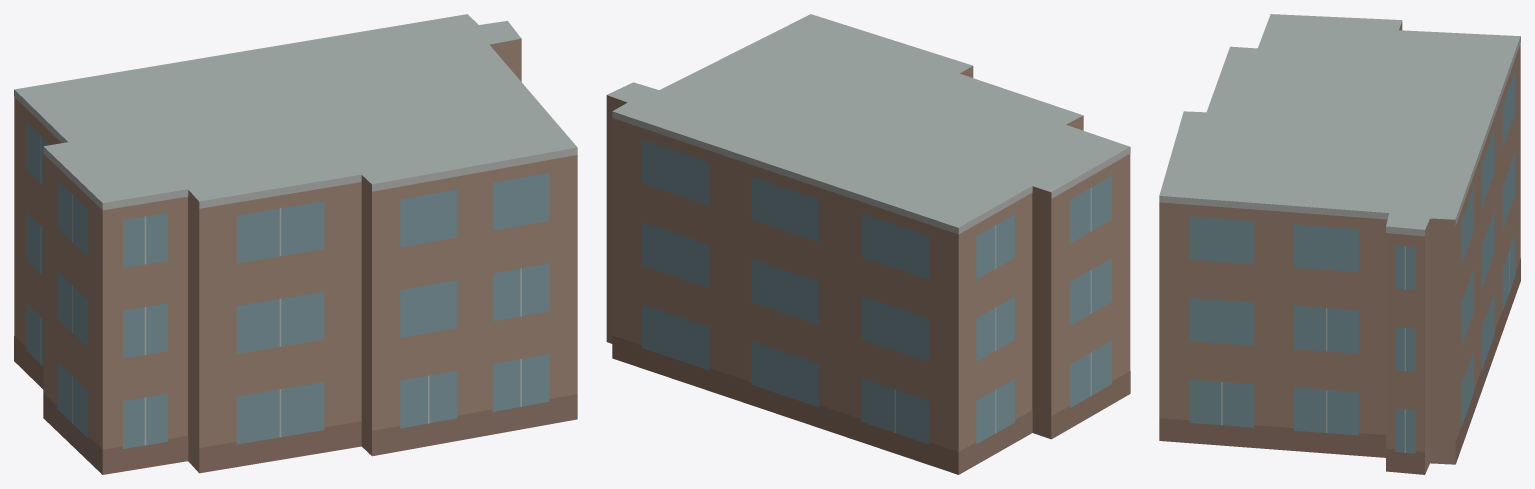
Rendered from survey-upis-32656731.glb.
3 renders of one model, left to right at view 1: azimuth 30°, elevation 25°; view 2: azimuth 150°, elevation 25°; view 3: azimuth 270°, elevation 25°, orthographic. The views are drawn at different scales.
Parts seen in each view (by area): view 1: survey-upis-32656731.tmp; view 2: survey-upis-32656731.tmp; view 3: survey-upis-32656731.tmp.
Boxes of the visible parts, left/top/right/bottom form: survey-upis-32656731.tmp: left=14, top=14, right=577, bottom=474; survey-upis-32656731.tmp: left=606, top=14, right=1130, bottom=474; survey-upis-32656731.tmp: left=1159, top=14, right=1520, bottom=474.
Size of the model in its own units: 17.31 by 9.15 by 12.25.
